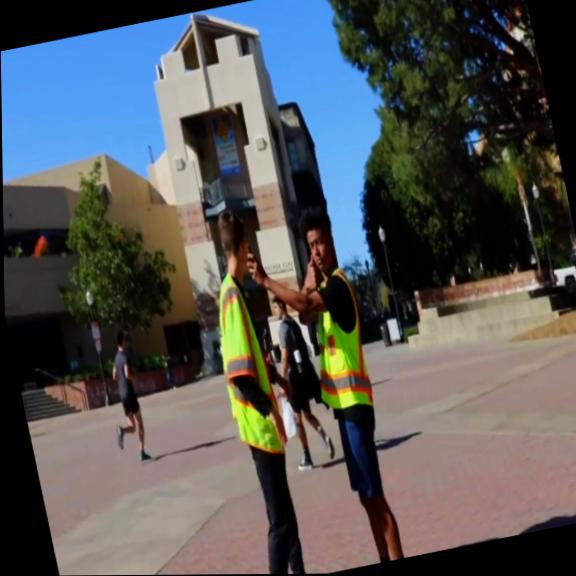safety_vest: (203, 266, 289, 461), (294, 267, 376, 417)
